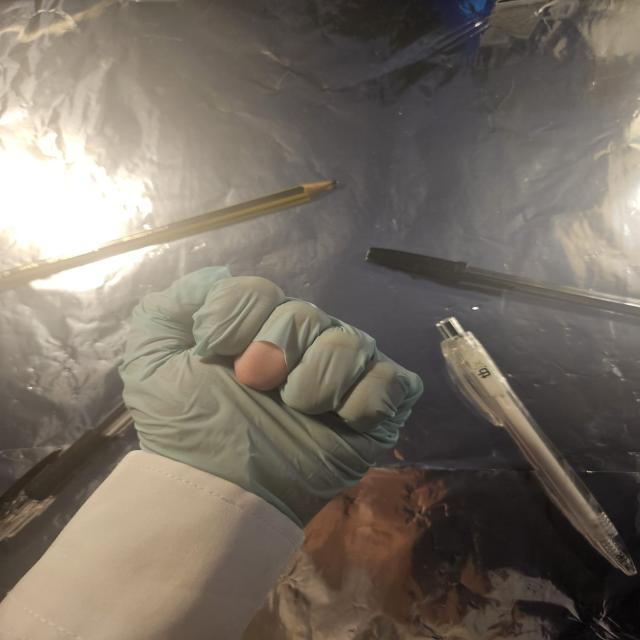gloves_damaged: (119, 266, 428, 523)
